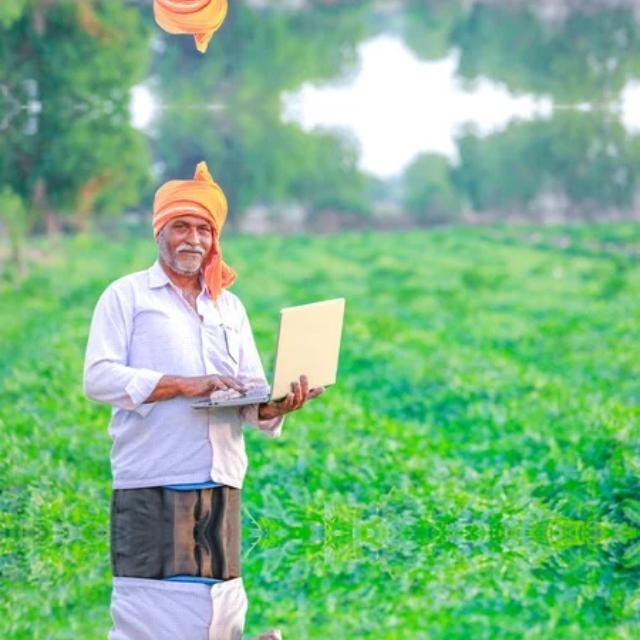person: (70, 153, 338, 532), (70, 532, 338, 640), (70, 0, 338, 58)
